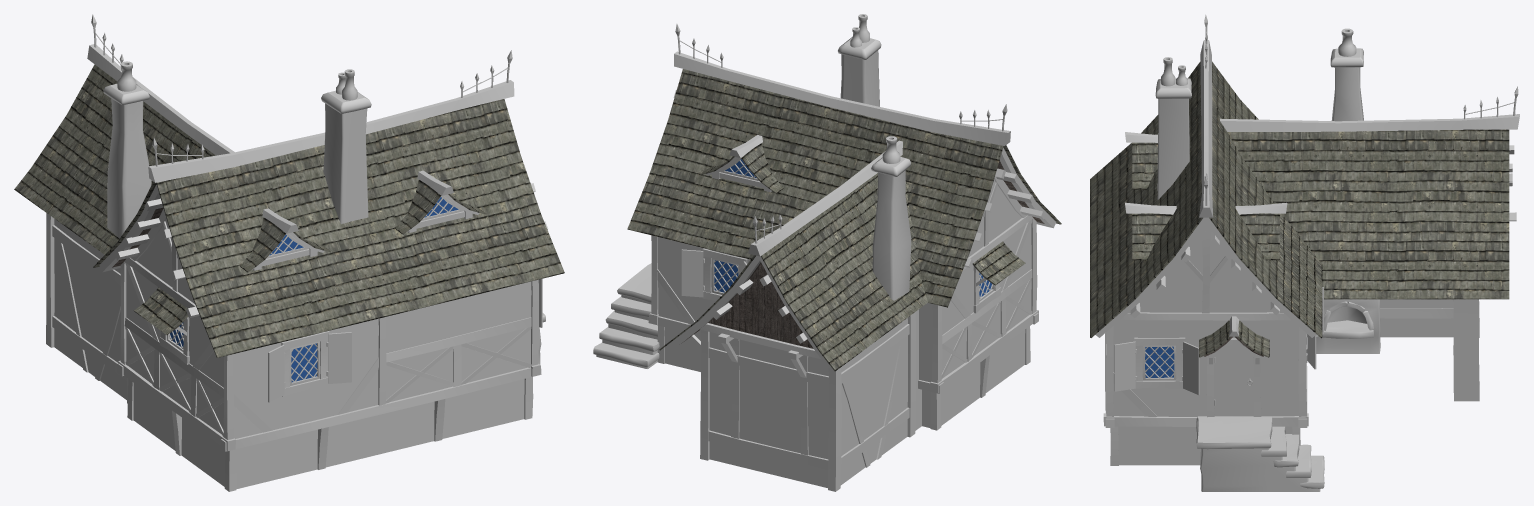
File: mw_type_1_cottage_02.FBX
3 views of the same model, side by side, from view 1: azimuth 30°, elevation 25°; view 2: azimuth 150°, elevation 25°; view 3: azimuth 270°, elevation 25° (orthographic). The views are drawn at different scales.
Visible parts, largest first — view 1: mw_type_1_cottage_02_roof, mw_type_1_cottage_02_stone, mw_type_1_cottage_02_wood, mw_type_1_cottage_02; view 2: mw_type_1_cottage_02_roof, mw_type_1_cottage_02_stone, mw_type_1_cottage_02_wood, mw_type_1_cottage_02; view 3: mw_type_1_cottage_02_roof, mw_type_1_cottage_02_stone, mw_type_1_cottage_02_wood, mw_type_1_cottage_02.
Part boxes in pixels (x1,y1,x2,y2): mw_type_1_cottage_02_roof: (14,64,564,357); mw_type_1_cottage_02_stone: (54,61,545,489); mw_type_1_cottage_02_wood: (46,44,548,491); mw_type_1_cottage_02: (91,14,542,402); mw_type_1_cottage_02_roof: (627,69,1061,371); mw_type_1_cottage_02_stone: (593,14,1031,487); mw_type_1_cottage_02_wood: (648,51,1056,491); mw_type_1_cottage_02: (675,24,1007,301); mw_type_1_cottage_02_roof: (1090,61,1509,357); mw_type_1_cottage_02_stone: (1113,28,1453,491); mw_type_1_cottage_02_wood: (1095,40,1519,465); mw_type_1_cottage_02: (1114,14,1518,416).
Bounding box in the file's own units: 1306 × 1147 × 1322.
